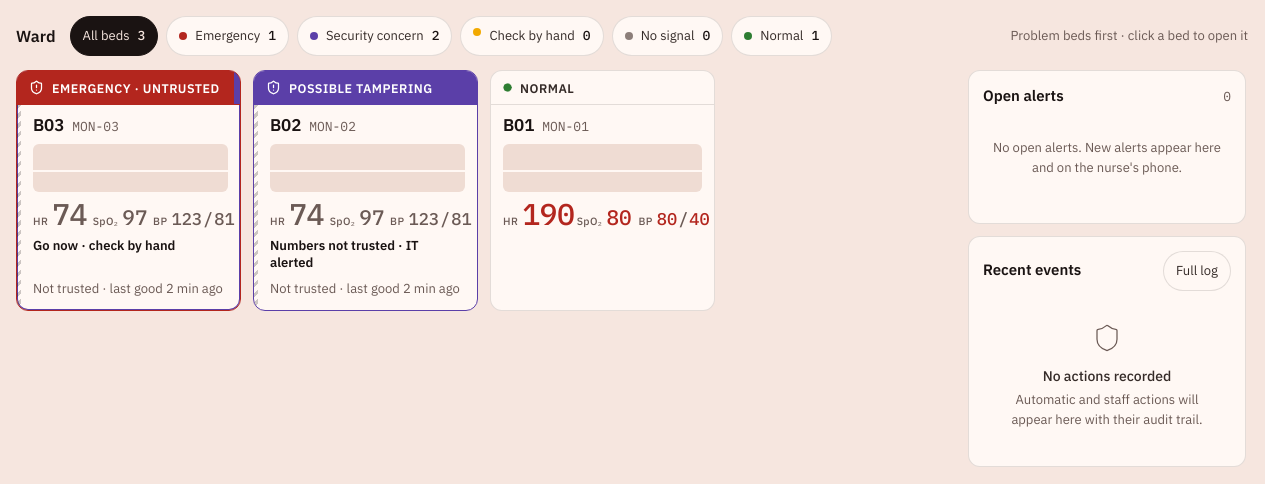
Test: security filtering includes combined emergencies and removes other bed links from keyboard navigation
Click the button "Security concern 2" at (375, 36), box [297,16,452,56]
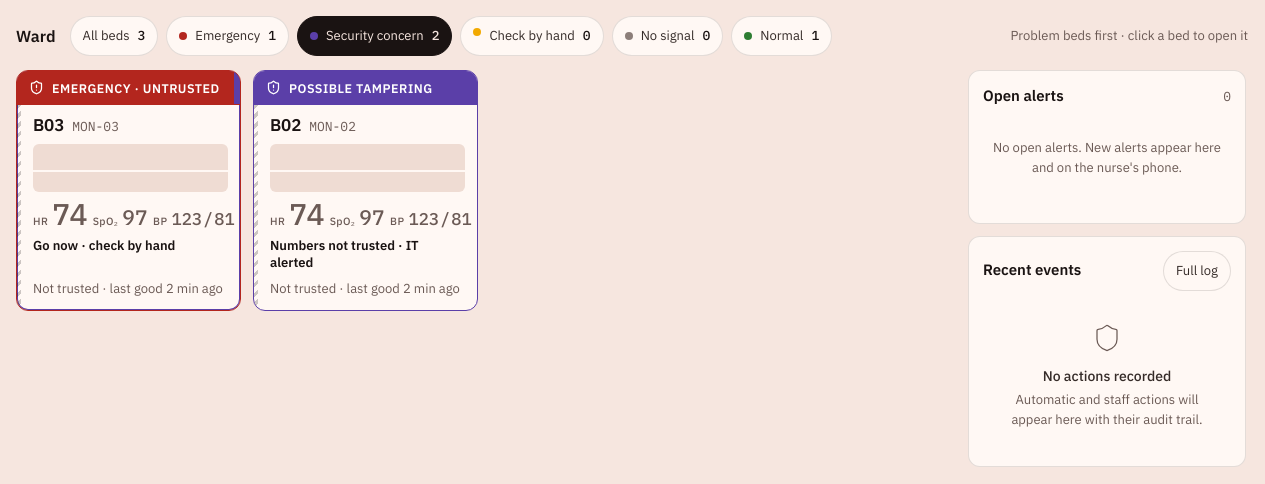
Expected: the number of links named "Open bed" is 2, [17,71,240,310]; [254,71,477,310]
Click the button "Emergency 1" at (228, 36), box [166,16,289,56]
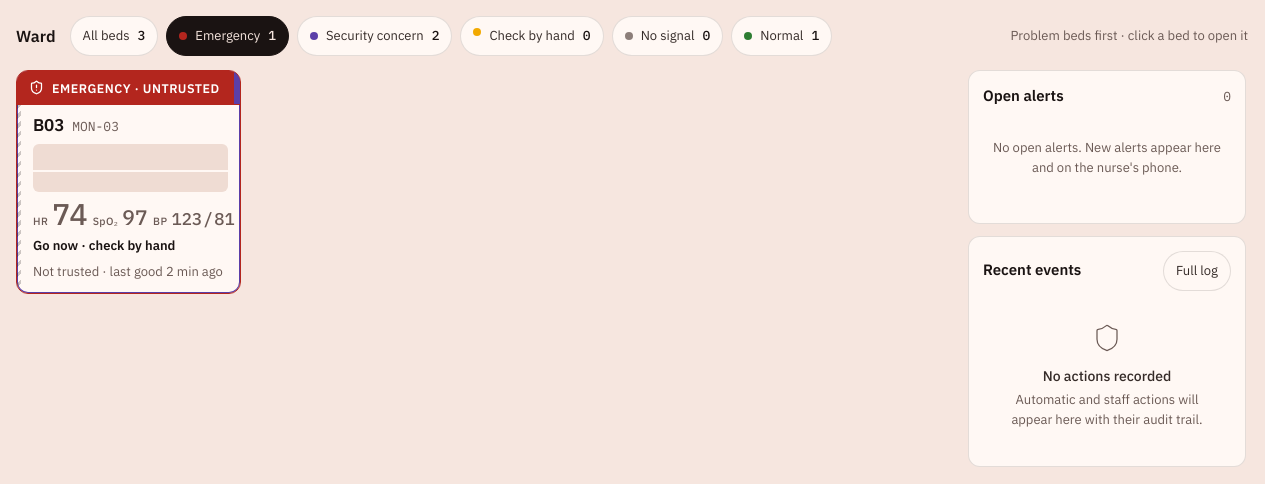
Expected: the number of links named "Open bed" is 1, [17,71,240,293]
Click the button "All beds 3" at (114, 36), box [70,16,158,56]
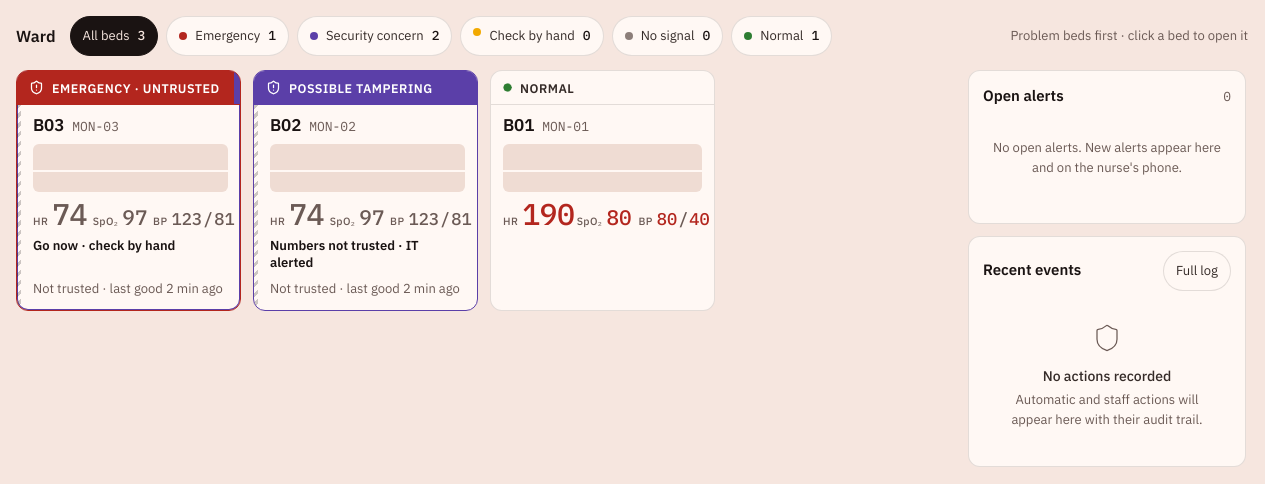
Expected: the number of links named "Open bed" is 3, [17,71,240,310]; [254,71,477,310]; [491,71,714,310]
